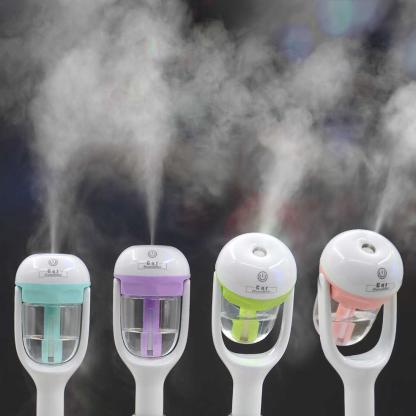smoke: (24, 11, 193, 206), (204, 41, 352, 182), (382, 82, 416, 160)
